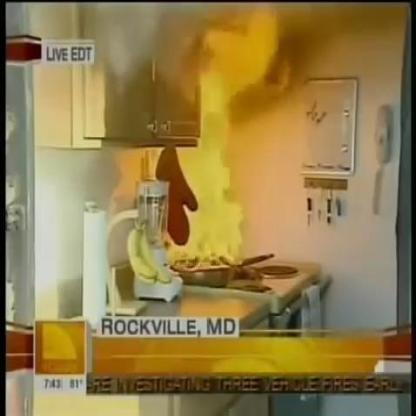fire: (200, 3, 287, 148), (152, 147, 247, 266)
